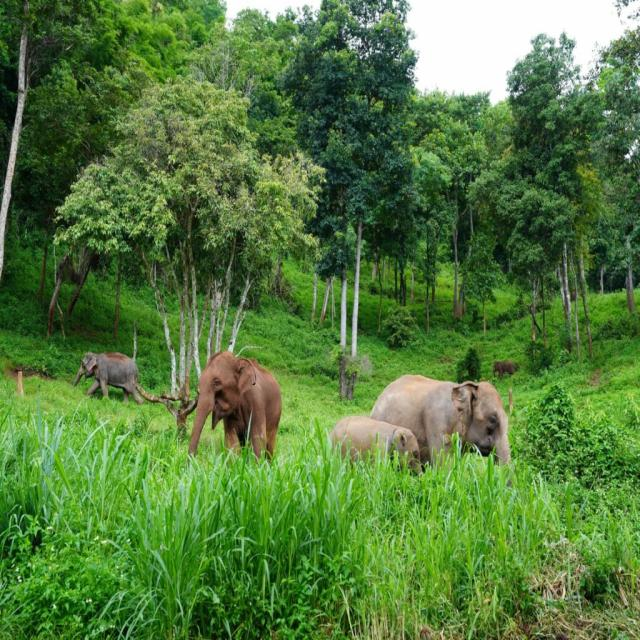Elephant: (370, 375, 510, 485), (191, 349, 282, 462), (328, 414, 421, 476), (73, 349, 144, 406)
